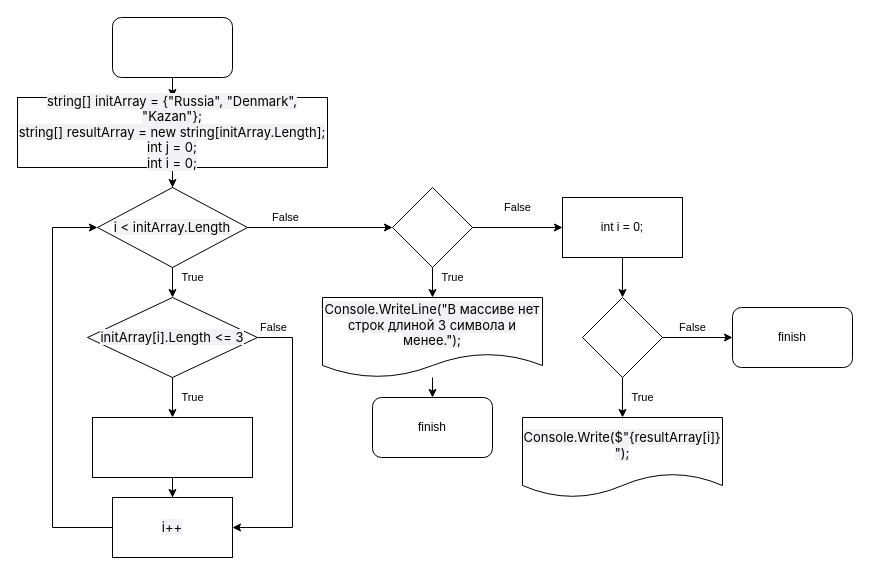
Image size: 870x575. Some labels were removed from this diagram. Each missing label, with the centre of its shape:
"i < j" belongs at [622,337].
"j = 0" belongs at [432,227].
"resultArray[j] = initArray[i]; j++;" belongs at [172,447].
"start" belongs at [172,47].
